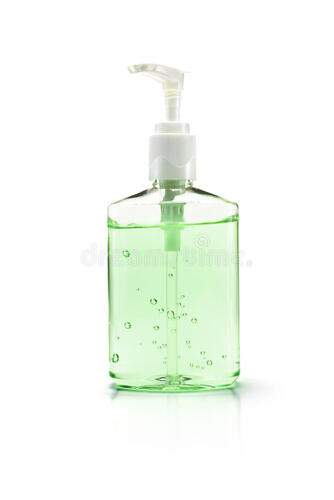sanitizer: (102, 62, 247, 396)
